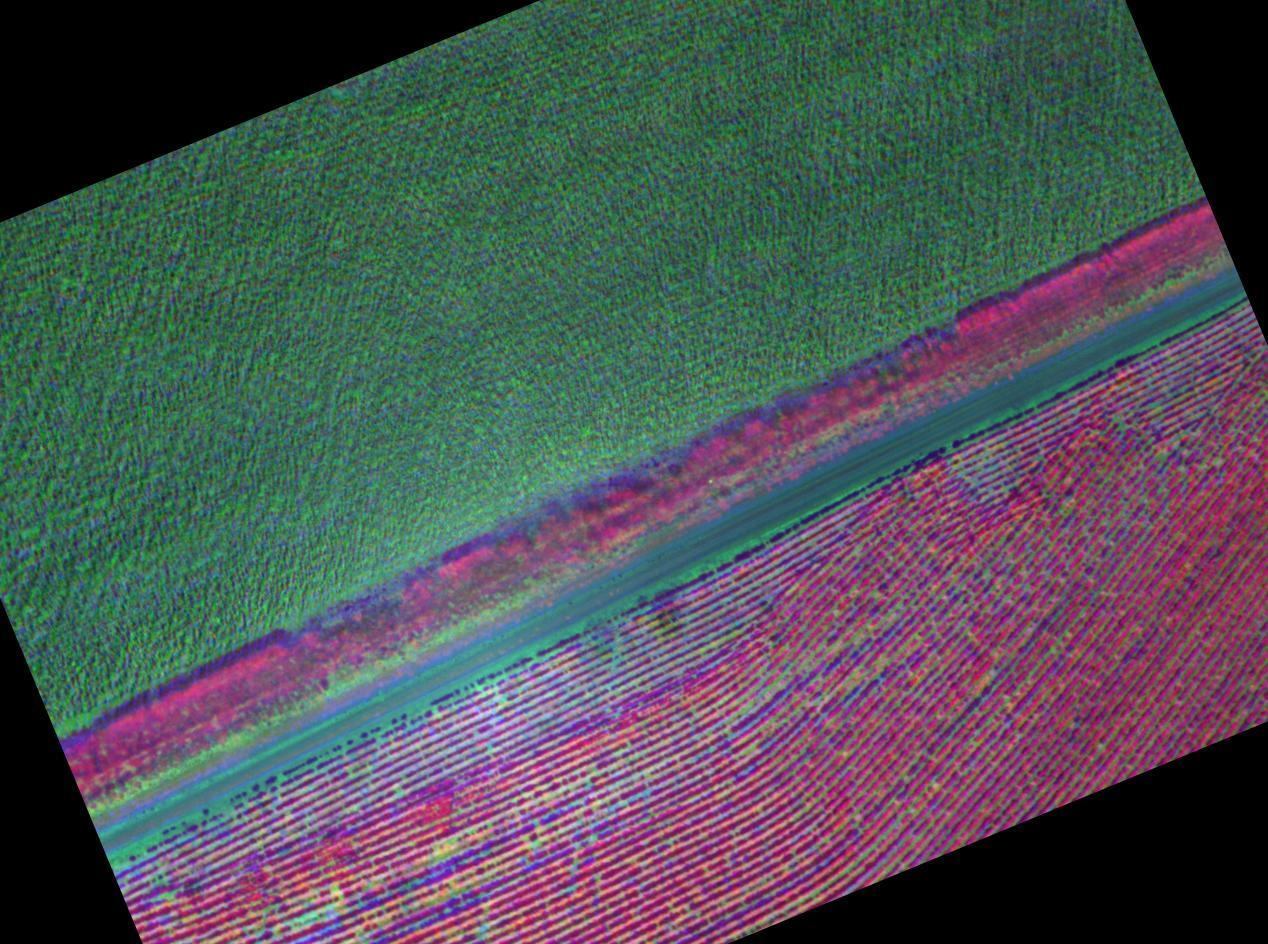dc: (332, 888, 337, 893), (593, 803, 596, 807), (590, 837, 593, 839)
